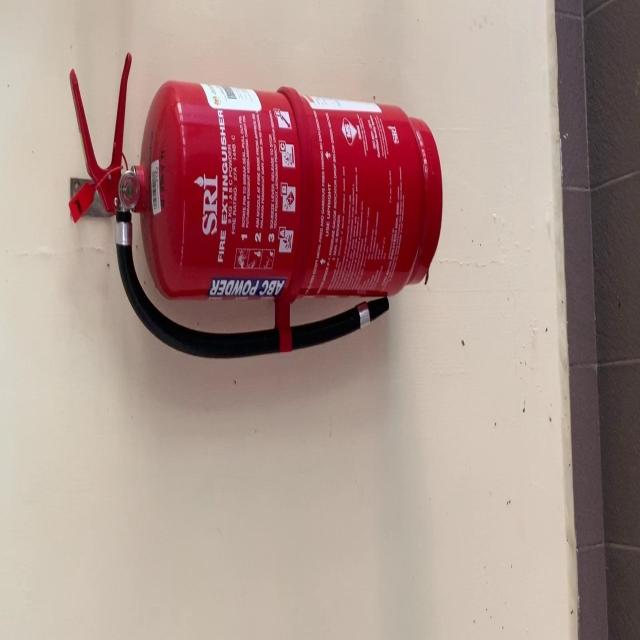fire_extinguisher: (66, 47, 446, 364)
